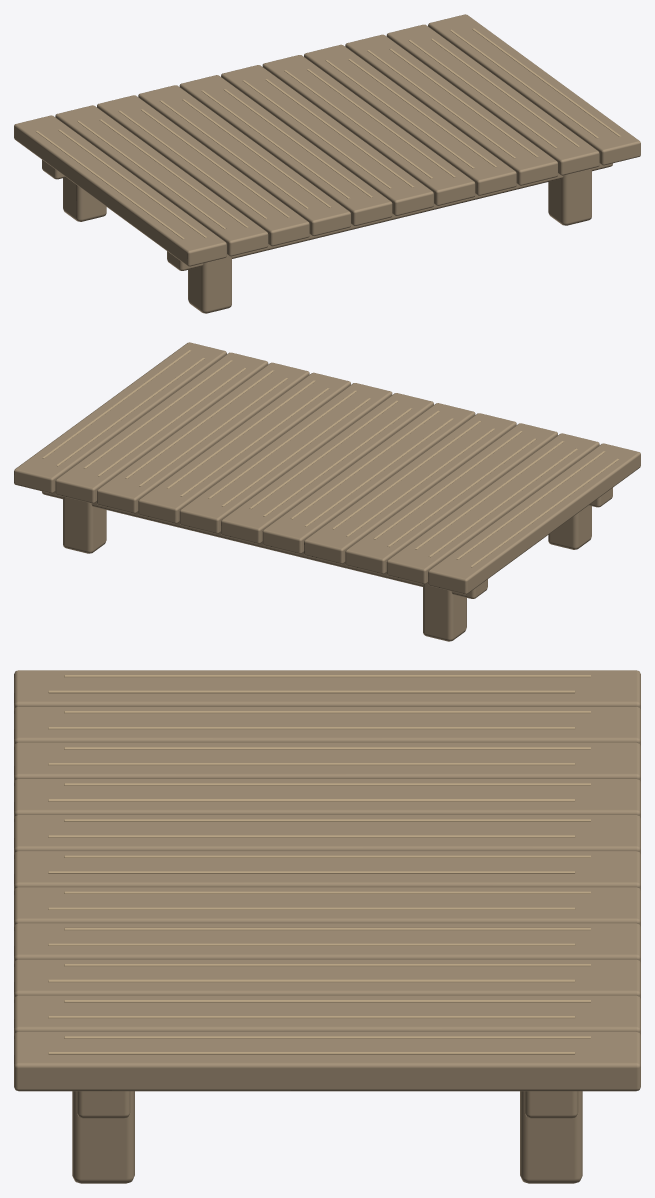
File: coastal-saltworks-and-trade-port-coastal-saltworks-and-7c553c74__31390.glb
3 renders of one model, top to bottom at view 1: azimuth 30°, elevation 25°; view 2: azimuth 150°, elevation 25°; view 3: azimuth 270°, elevation 25°, orthographic. The views are drawn at different scales.
Visible parts, largest first — view 1: coastal-saltworks-and-trade-port-warehouse-drying-platform; view 2: coastal-saltworks-and-trade-port-warehouse-drying-platform; view 3: coastal-saltworks-and-trade-port-warehouse-drying-platform.
Part boxes in pixels (bbox=[...]): coastal-saltworks-and-trade-port-warehouse-drying-platform: bbox=[14, 14, 640, 313]; coastal-saltworks-and-trade-port-warehouse-drying-platform: bbox=[14, 342, 640, 641]; coastal-saltworks-and-trade-port-warehouse-drying-platform: bbox=[14, 670, 640, 1183].
Size of the model in its own units: 2.09 by 0.3729 by 1.4.
